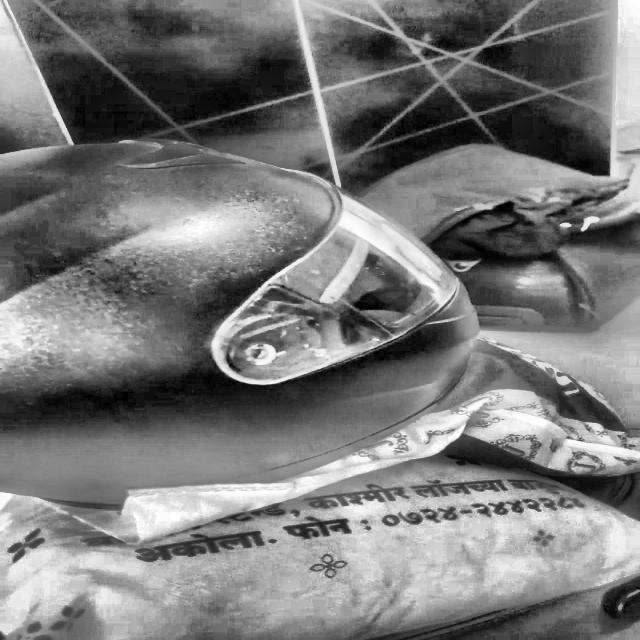Helmet: (0, 131, 486, 506)
